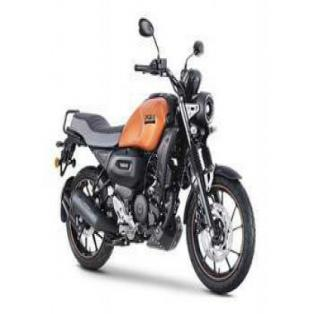Motocicleta: (54, 15, 256, 297)
